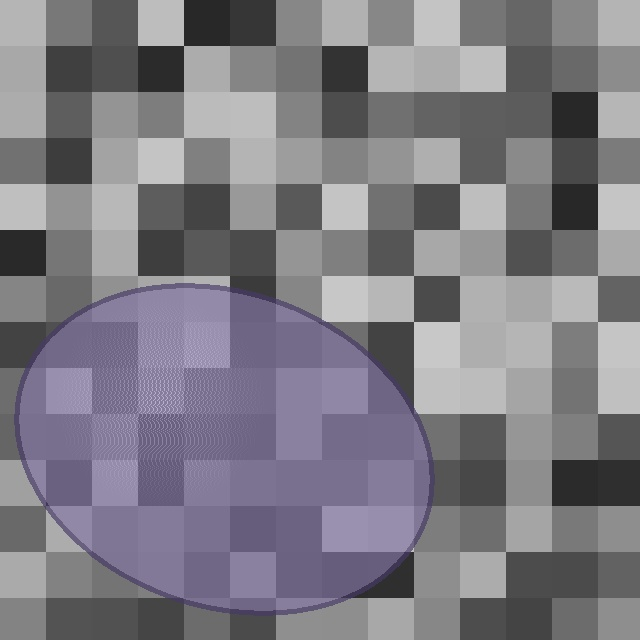lens: (16, 286, 432, 612)
